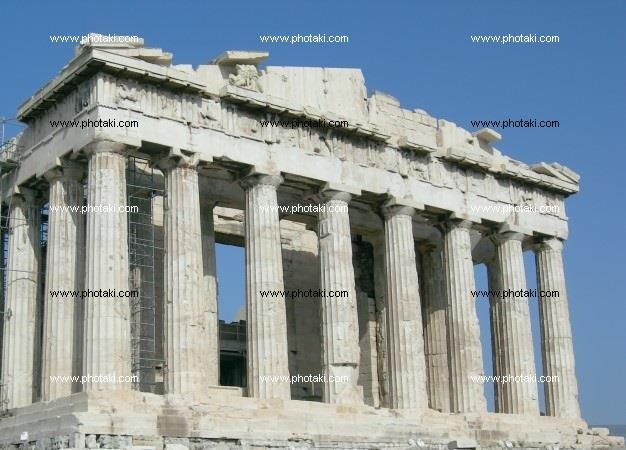akropoli: (9, 44, 587, 421)
